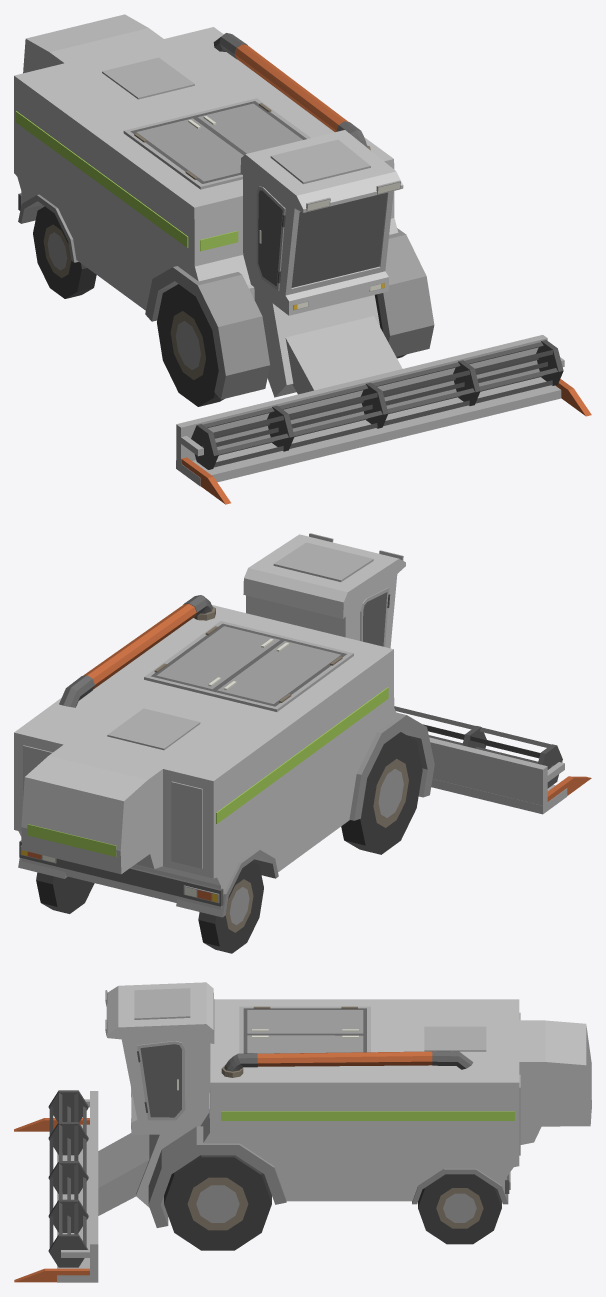
Rendered from kar8.fbx.
3 views of the same model, one above another, from view 1: azimuth 30°, elevation 25°; view 2: azimuth 150°, elevation 25°; view 3: azimuth 270°, elevation 25° (orthographic). The views are drawn at different scales.
Parts seen in each view (by area): view 1: Cube_3, Cube_8, Cylinder_5, Cylinder_2, Cylinder_3, Cylinder_6; view 2: Cube_3, Cube_8, Cylinder_2, Cylinder_3, Cylinder_6, Cylinder_5, Cylinder_1; view 3: Cube_3, Cylinder, Cube_8, Cylinder_5, Cylinder_1, Cylinder_6.
Boxes of the visible parts, box(x1,y1,x2,y2) form: Cube_3: box(14, 14, 434, 399); Cube_8: box(176, 316, 591, 504); Cylinder_5: box(191, 340, 563, 469); Cylinder_2: box(157, 284, 223, 406); Cylinder_3: box(33, 206, 96, 298); Cylinder_6: box(213, 33, 367, 147); Cube_3: box(14, 533, 434, 917); Cube_8: box(429, 737, 591, 814); Cylinder_2: box(341, 732, 422, 854); Cylinder_3: box(198, 861, 263, 953); Cylinder_6: box(59, 595, 212, 707); Cylinder_5: box(394, 706, 562, 788); Cylinder_1: box(36, 872, 94, 913); Cube_3: box(105, 982, 591, 1227); Cylinder: box(164, 1155, 271, 1250); Cube_8: box(14, 1091, 149, 1282); Cylinder_5: box(48, 1090, 88, 1267); Cylinder_1: box(418, 1174, 501, 1244); Cylinder_6: box(224, 1051, 473, 1071).
Bounding box in the file's own units: 551 × 344 × 878.
